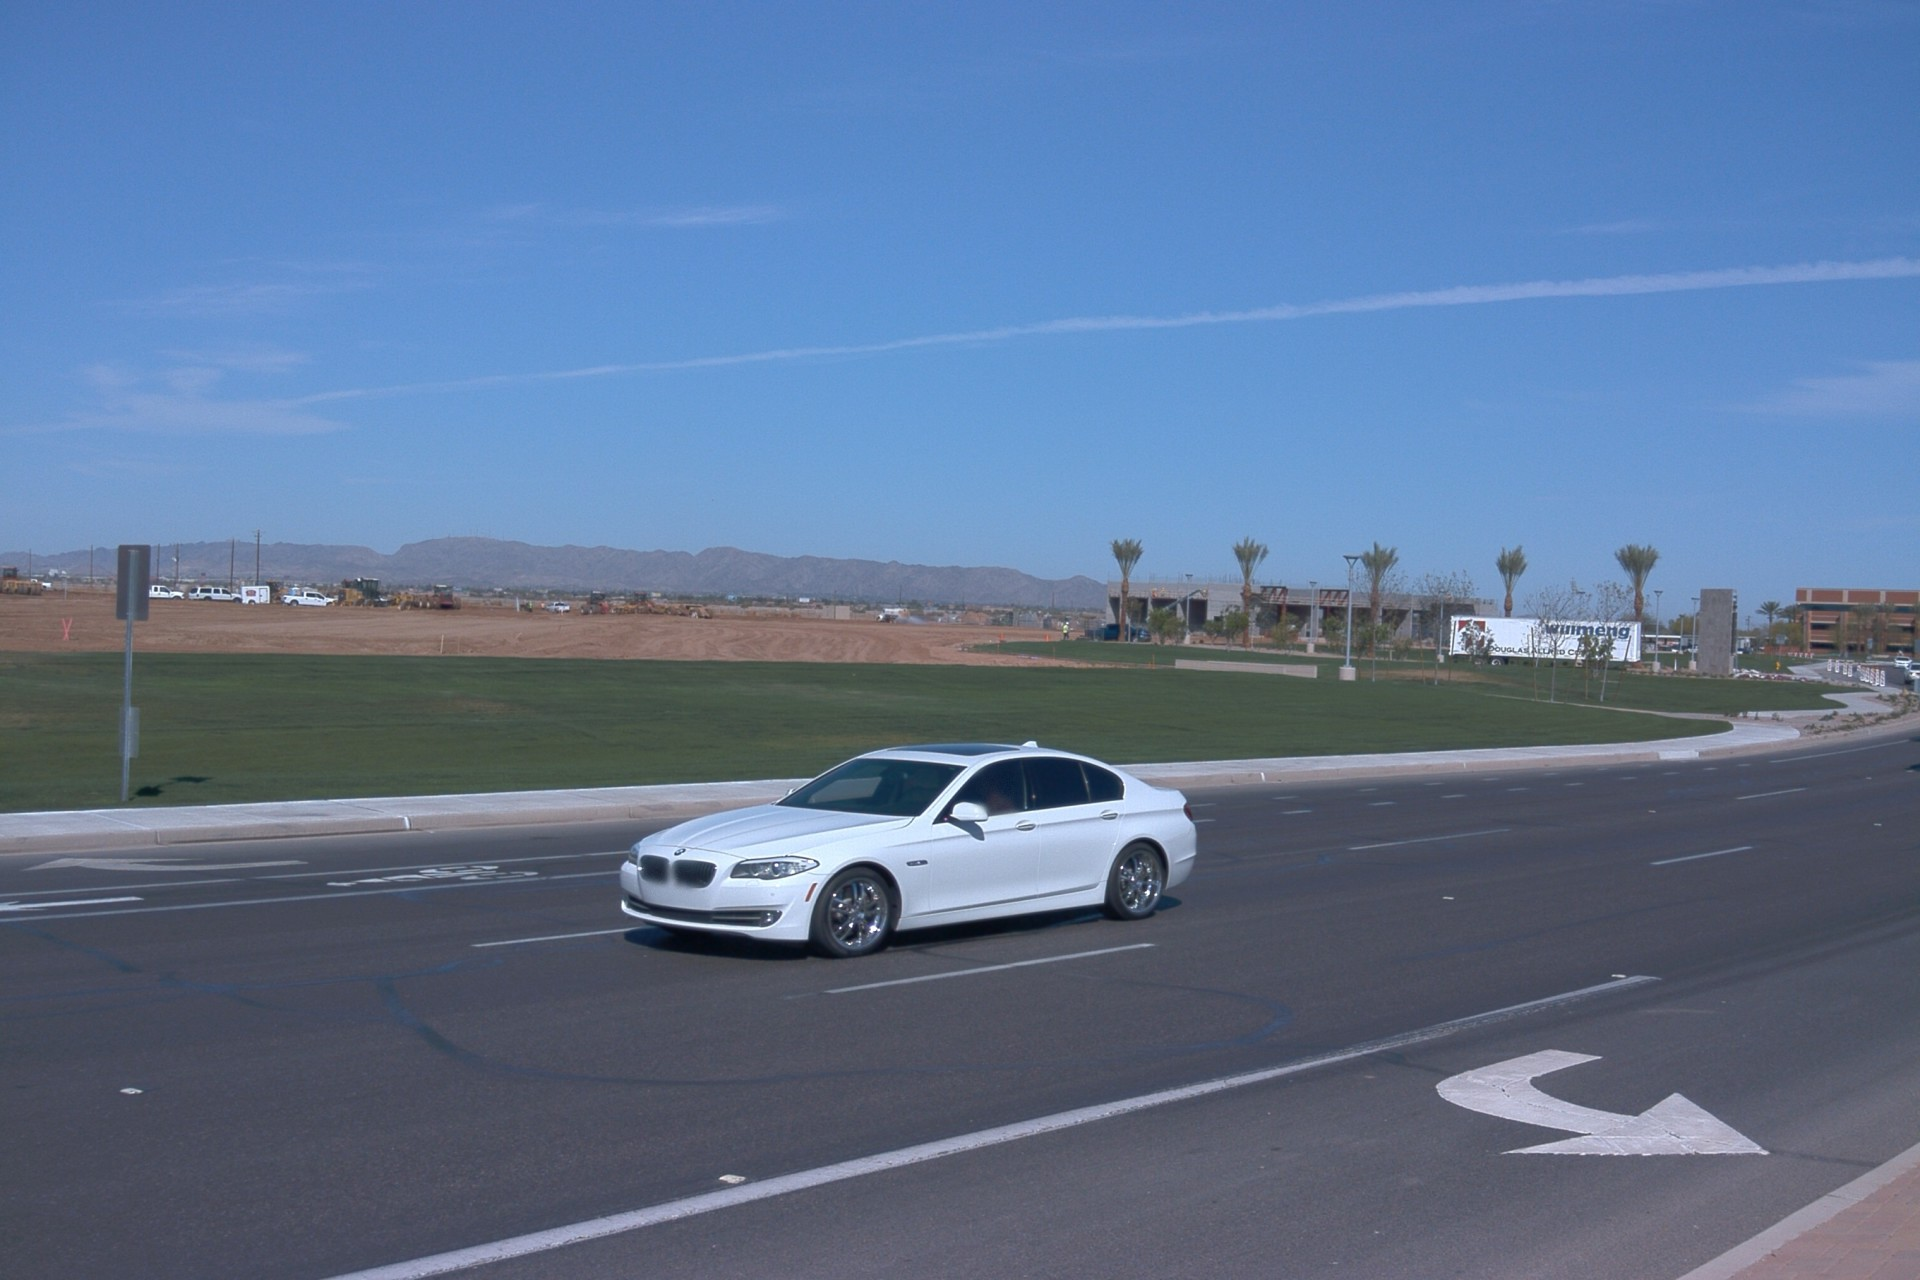TYPE_PEDESTRIAN: (1061, 619, 1071, 640), (539, 600, 547, 613), (527, 600, 532, 612)
TYPE_VEHICLE: (617, 737, 1197, 962), (1446, 610, 1642, 670), (322, 568, 403, 609), (1145, 583, 1208, 624), (398, 579, 465, 610), (1083, 623, 1150, 644), (281, 586, 337, 606), (190, 581, 247, 599), (874, 604, 917, 625), (240, 585, 274, 605), (146, 582, 189, 597), (267, 579, 291, 601), (1905, 663, 1920, 686), (546, 597, 570, 611), (32, 575, 55, 589), (335, 575, 354, 589), (1894, 656, 1914, 669)
